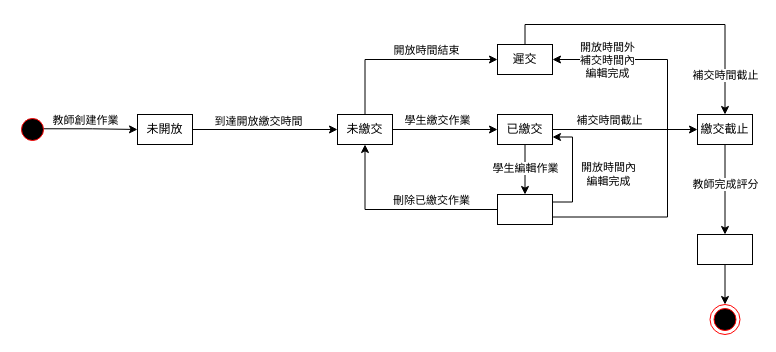
Image size: 776x352. Some labels were removed from this diagram. The box of each missing label's shape, as (x1, y1, x2, y2) in pixels:
已評分: (696, 234, 752, 264)
編輯中: (496, 194, 552, 224)
